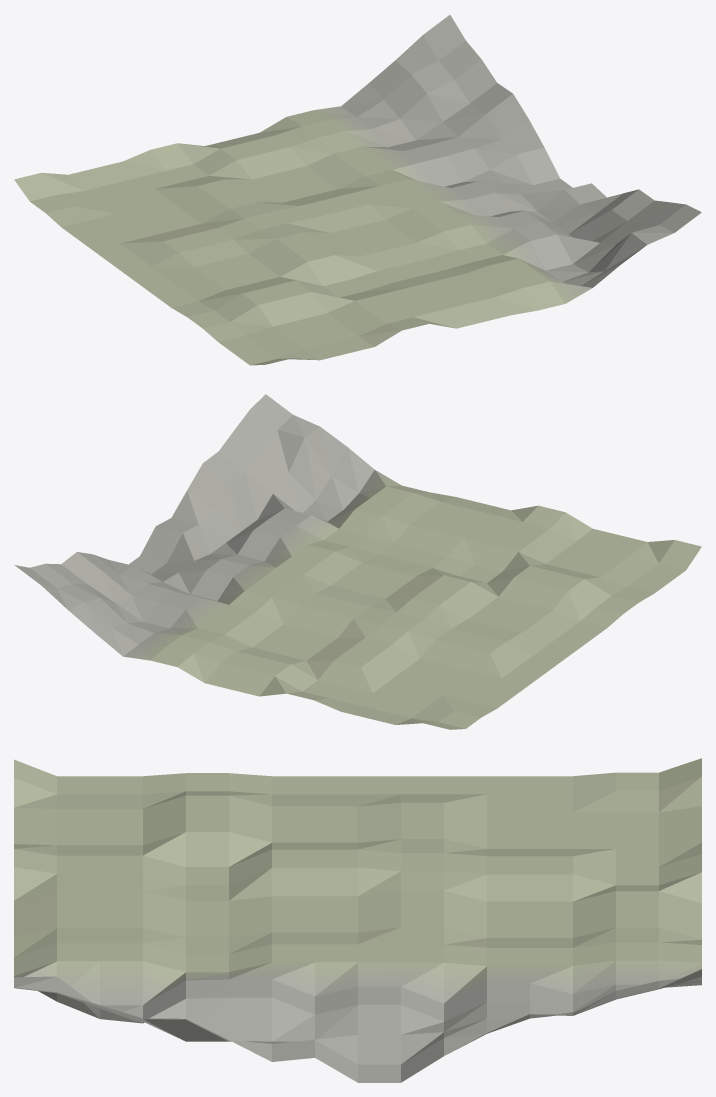
The picture shows the model from 3 angles, top to bottom: view 1: azimuth 30°, elevation 25°; view 2: azimuth 150°, elevation 25°; view 3: azimuth 270°, elevation 25°; orthographic projection. The views are drawn at different scales.
Size of the model in its own units: 32 by 5.85 by 32.
